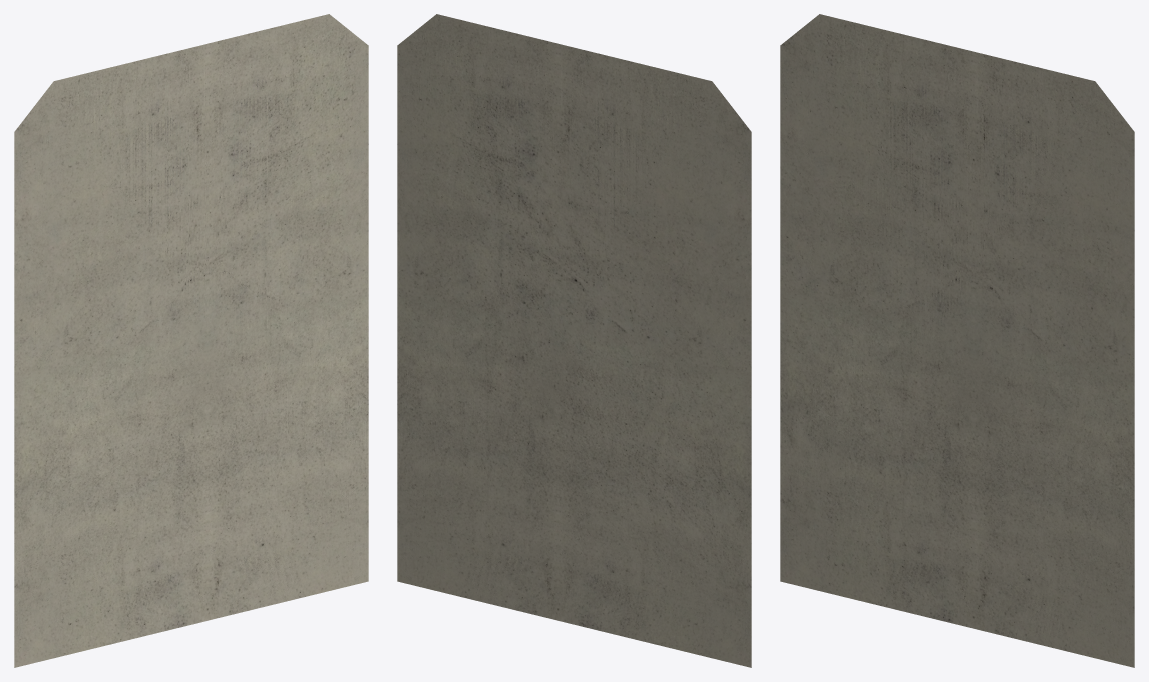
Rendered from GSDRailing5Cap.fbx.
The picture shows the model from 3 angles, left to right: view 1: azimuth 30°, elevation 25°; view 2: azimuth 150°, elevation 25°; view 3: azimuth 330°, elevation 25°; orthographic projection.
Parts seen in each view (by area): view 1: CementFenceCap; view 2: CementFenceCap; view 3: CementFenceCap.
Boxes of the visible parts, left/top/right/bottom form: CementFenceCap: left=14, top=14, right=368, bottom=667; CementFenceCap: left=397, top=14, right=751, bottom=667; CementFenceCap: left=780, top=14, right=1134, bottom=667.
Bounding box in the file's own units: 0.45 × 0.7 × 3.06e-08.
